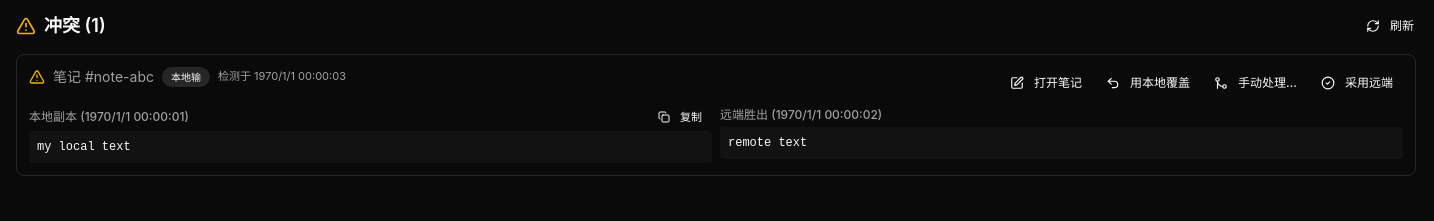
ConflictsPage resolve flow (W7) › blocks resolve when the note has an unsaved open tab (D9)
Click the button "用本地覆盖" at (1148, 83), box [1096,67,1200,99]
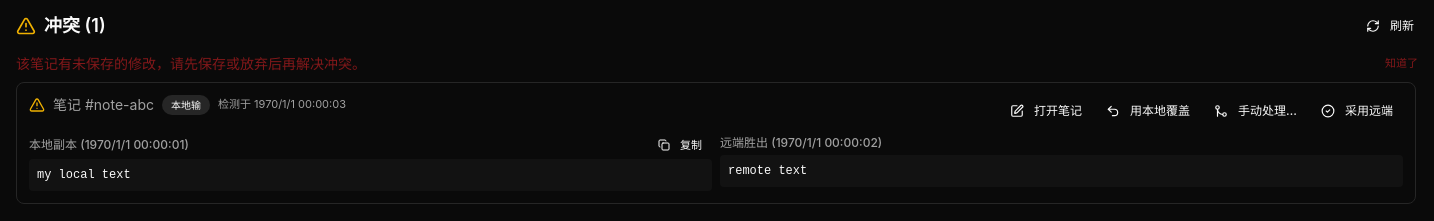
Now the text "该笔记有未保存的修改，请先保存或放弃后再解决冲突。" is shown, box [16,54,366,74]
